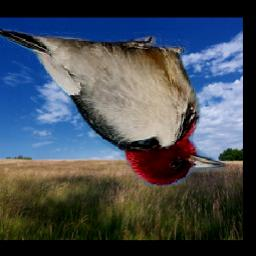Woodpecker: (0, 30, 226, 187)
